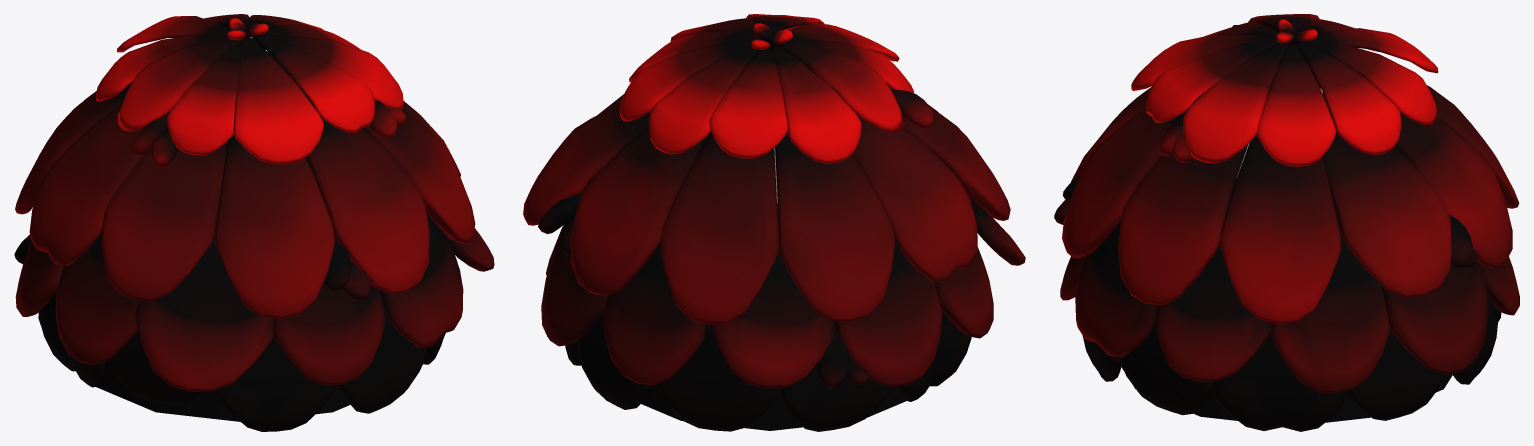
File: SM_HealthyBush_01_LOD0.fbx
3 renders of one model, left to right at view 1: azimuth 30°, elevation 25°; view 2: azimuth 150°, elevation 25°; view 3: azimuth 270°, elevation 25°, orthographic.
Visible parts, largest first — view 1: Bush_01_LOD0; view 2: Bush_01_LOD0; view 3: Bush_01_LOD0.
Boxes of the visible parts, x1,y1,x2,y2 form: Bush_01_LOD0: (14,14,494,431); Bush_01_LOD0: (523,14,1025,431); Bush_01_LOD0: (1054,14,1519,431).
Bounding box in the file's own units: 212 × 165 × 211.
